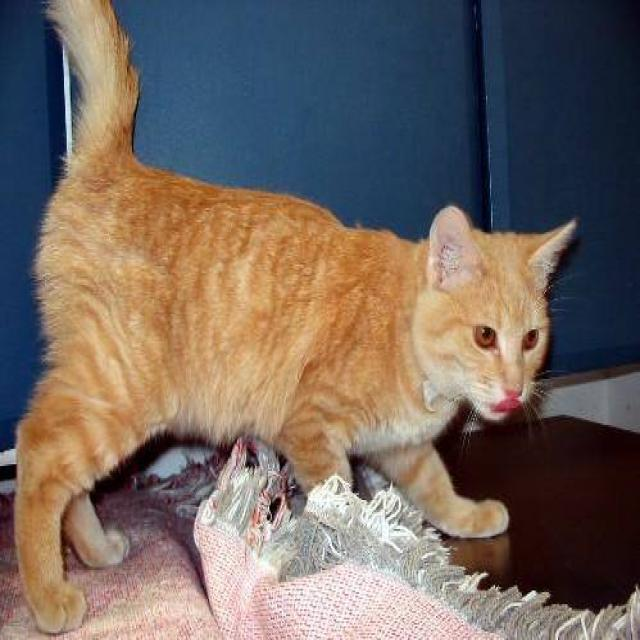cat: (13, 0, 578, 635)
